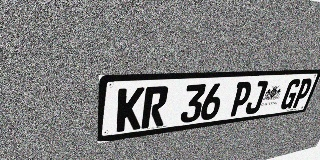3: (179, 84, 207, 124)
6: (199, 83, 226, 121)
G: (279, 79, 302, 110)
J: (244, 81, 269, 115)
K: (116, 87, 145, 132)
P: (228, 81, 254, 117), (291, 78, 314, 108)
R: (141, 86, 169, 129)
